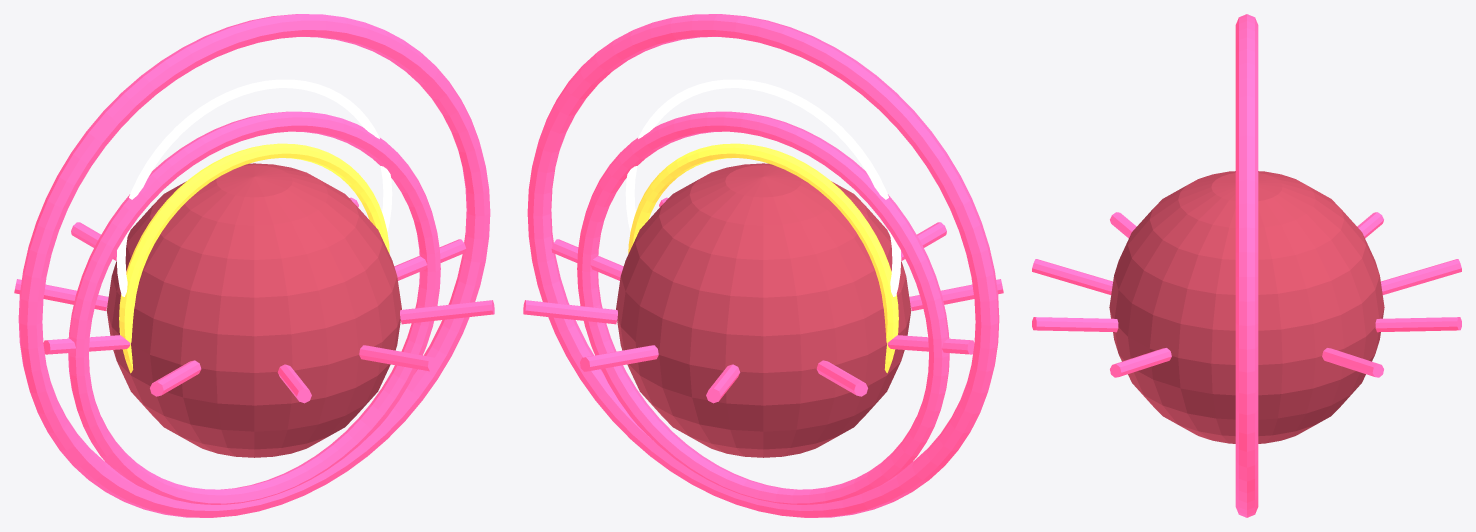
Rendered from exploder.glb.
3 renders of one model, left to right at view 1: azimuth 30°, elevation 25°; view 2: azimuth 150°, elevation 25°; view 3: azimuth 270°, elevation 25°, orthographic. The views are drawn at different scales.
Visible parts, largest first — view 1: ExploderDarkPressureCore, ExploderReadabilityOuterWarningCage, ExploderRedWarningRing, ExploderOrangeFuseRing, ExploderReadabilityWhiteFuseOrbit, ExploderSpike9, ExploderSpike8, ExploderSpike5, ExploderSpike0, ExploderSpike6, ExploderSpike4, ExploderSpike7; view 2: ExploderDarkPressureCore, ExploderReadabilityOuterWarningCage, ExploderRedWarningRing, ExploderOrangeFuseRing, ExploderReadabilityWhiteFuseOrbit, ExploderSpike1, ExploderSpike2, ExploderSpike5, ExploderSpike0, ExploderSpike4, ExploderSpike6, ExploderSpike3; view 3: ExploderDarkPressureCore, ExploderReadabilityOuterWarningCage, ExploderSpike2, ExploderSpike8, ExploderSpike3, ExploderSpike7, ExploderSpike1, ExploderSpike9.
Boxes of the visible parts, x1,y1,x2,y2 form: ExploderDarkPressureCore: (106,163,401,457); ExploderReadabilityOuterWarningCage: (18,14,490,517); ExploderRedWarningRing: (68,111,440,504); ExploderOrangeFuseRing: (119,143,389,373); ExploderReadabilityWhiteFuseOrbit: (116,79,392,296); ExploderSpike9: (400,300,494,324); ExploderSpike8: (359,345,437,371); ExploderSpike5: (43,335,130,354); ExploderSpike0: (394,239,466,280); ExploderSpike6: (150,360,201,396); ExploderSpike4: (14,279,108,310); ExploderSpike7: (277,364,311,403); ExploderDarkPressureCore: (616,163,911,457); ExploderReadabilityOuterWarningCage: (527,14,999,517); ExploderRedWarningRing: (577,111,949,504); ExploderOrangeFuseRing: (628,143,898,373); ExploderReadabilityWhiteFuseOrbit: (625,79,901,296); ExploderSpike1: (523,300,617,324); ExploderSpike2: (580,345,658,371); ExploderSpike5: (887,335,974,354); ExploderSpike0: (551,239,623,280); ExploderSpike4: (816,360,867,396); ExploderSpike6: (909,279,1003,310); ExploderSpike3: (706,364,740,403); ExploderDarkPressureCore: (1109,171,1384,443); ExploderReadabilityOuterWarningCage: (1235,14,1258,517); ExploderSpike2: (1375,317,1461,332); ExploderSpike8: (1032,317,1118,332); ExploderSpike3: (1381,259,1461,294); ExploderSpike7: (1032,259,1112,294); ExploderSpike1: (1322,348,1383,377); ExploderSpike9: (1110,348,1171,377).
Bounding box in the file's own units: 2.02 × 2.02 × 1.73.
